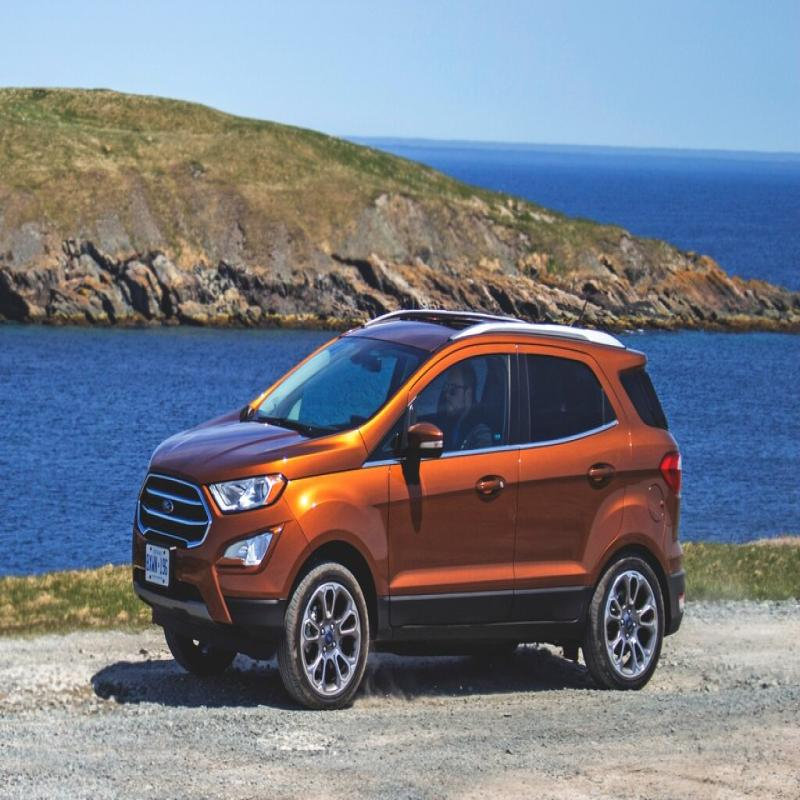car: (122, 288, 675, 701)
